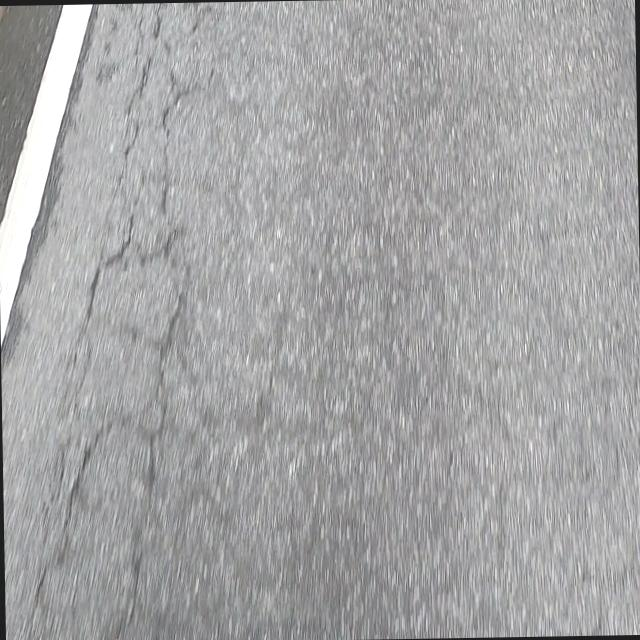Retak-Buaya: (24, 3, 187, 640)
